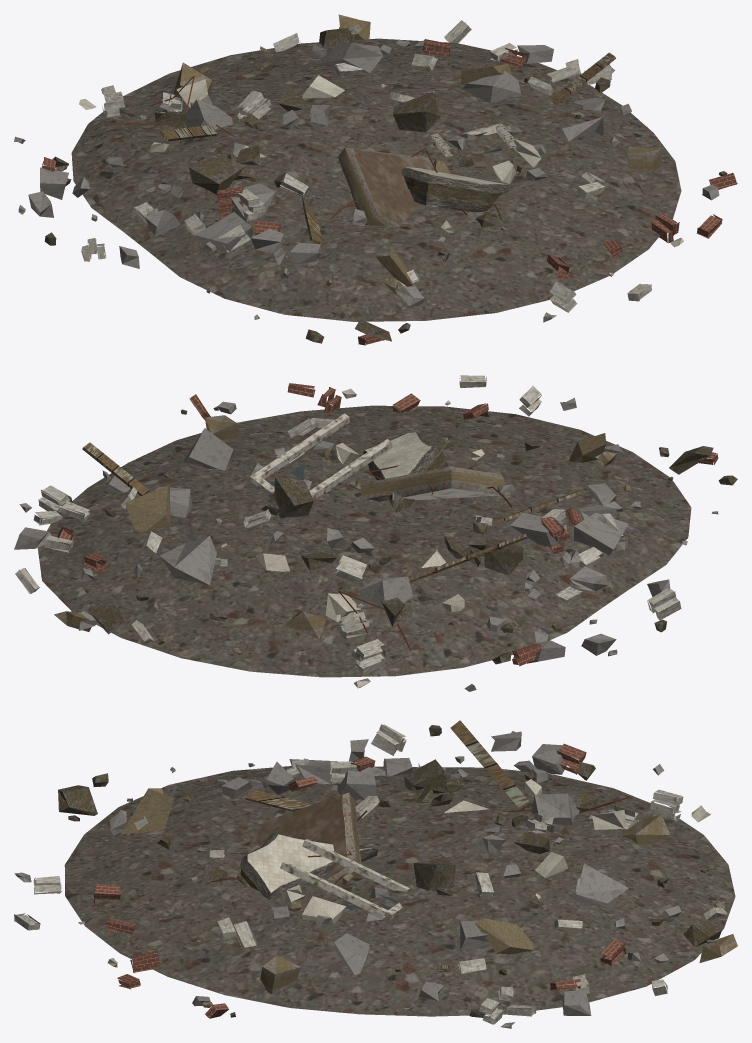
Rendered from rubble_11.glb.
The picture shows the model from 3 angles, top to bottom: view 1: azimuth 30°, elevation 25°; view 2: azimuth 150°, elevation 25°; view 3: azimuth 270°, elevation 25°; orthographic projection.
Visible parts, largest first — view 1: rubble_11; view 2: rubble_11; view 3: rubble_11.
Boxes of the visible parts, x1,y1,x2,y2 form: rubble_11: (14,14,737,345); rubble_11: (14,375,737,691); rubble_11: (14,720,737,1028).
Bounding box in the file's own units: 6.79 × 1.07 × 6.98.
Materials: 1 (1 with a texture image).
